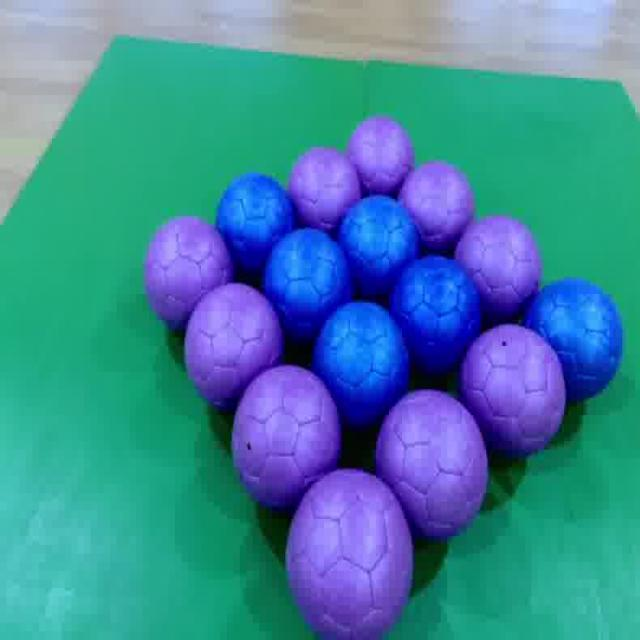blue_ball: (528, 278, 624, 419), (313, 299, 411, 429), (392, 255, 480, 375), (267, 233, 352, 339), (216, 168, 298, 276), (340, 195, 421, 299)
purple_ball: (282, 470, 420, 640), (233, 366, 342, 514), (376, 399, 486, 536), (458, 324, 564, 458), (188, 282, 282, 401), (143, 215, 235, 326), (455, 218, 541, 323), (398, 163, 478, 255), (288, 150, 363, 234), (346, 114, 412, 202)
